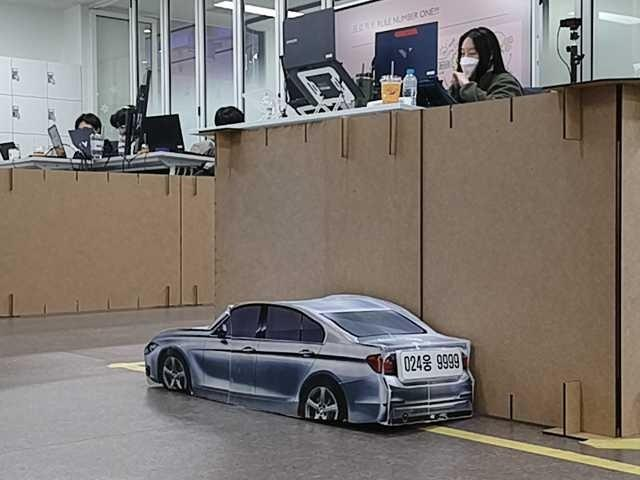car: (141, 288, 478, 432)
id: (396, 346, 463, 381)
